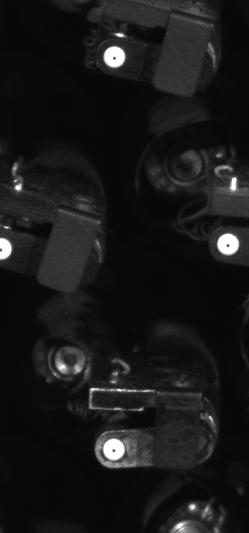fiber: (210, 226, 243, 260), (96, 435, 130, 464), (99, 43, 130, 71), (1, 232, 18, 263)
